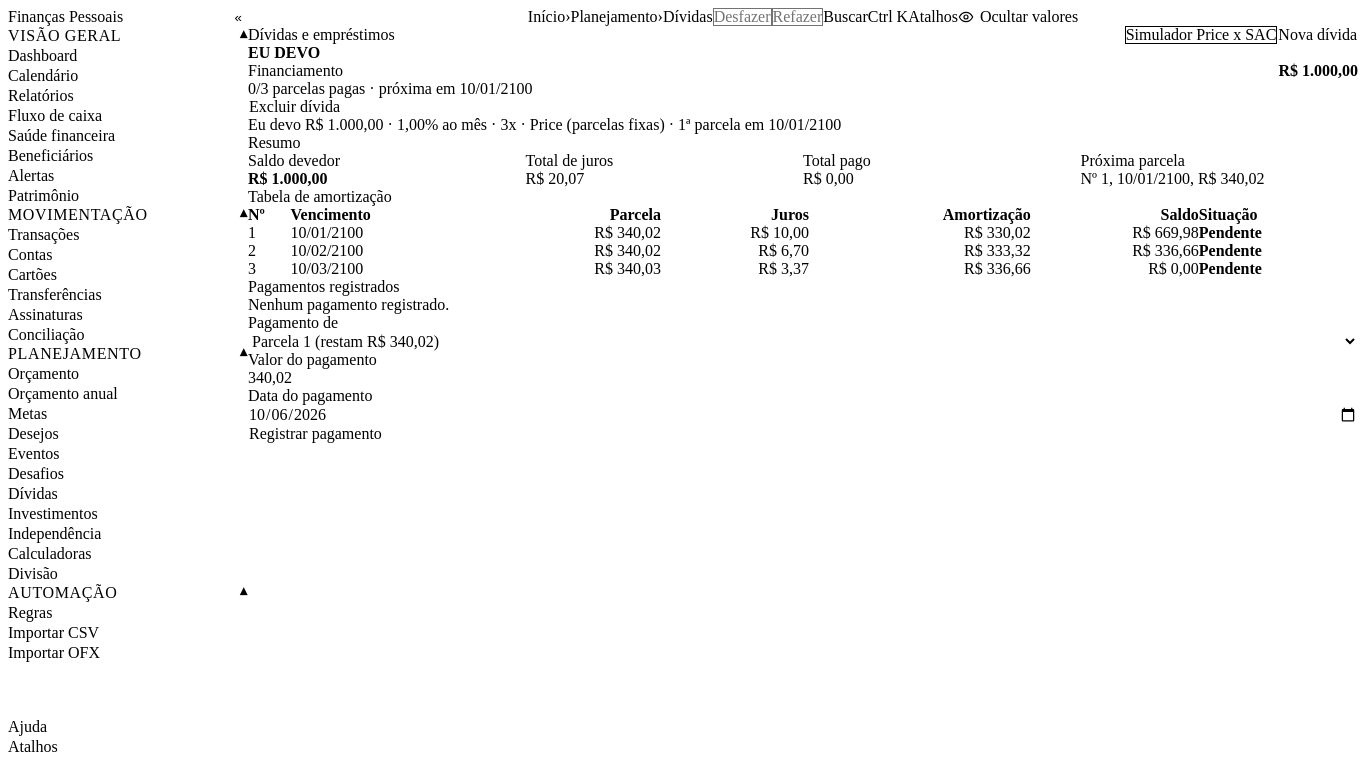
Scenario: dívidas: tela (critérios 1, 6, 8, 10 a 14) › critério 12: exclui a dívida somente após confirmar
The image size is (1366, 759).
Click the button "Excluir dívida": [295, 107] box [248,98,341,116]
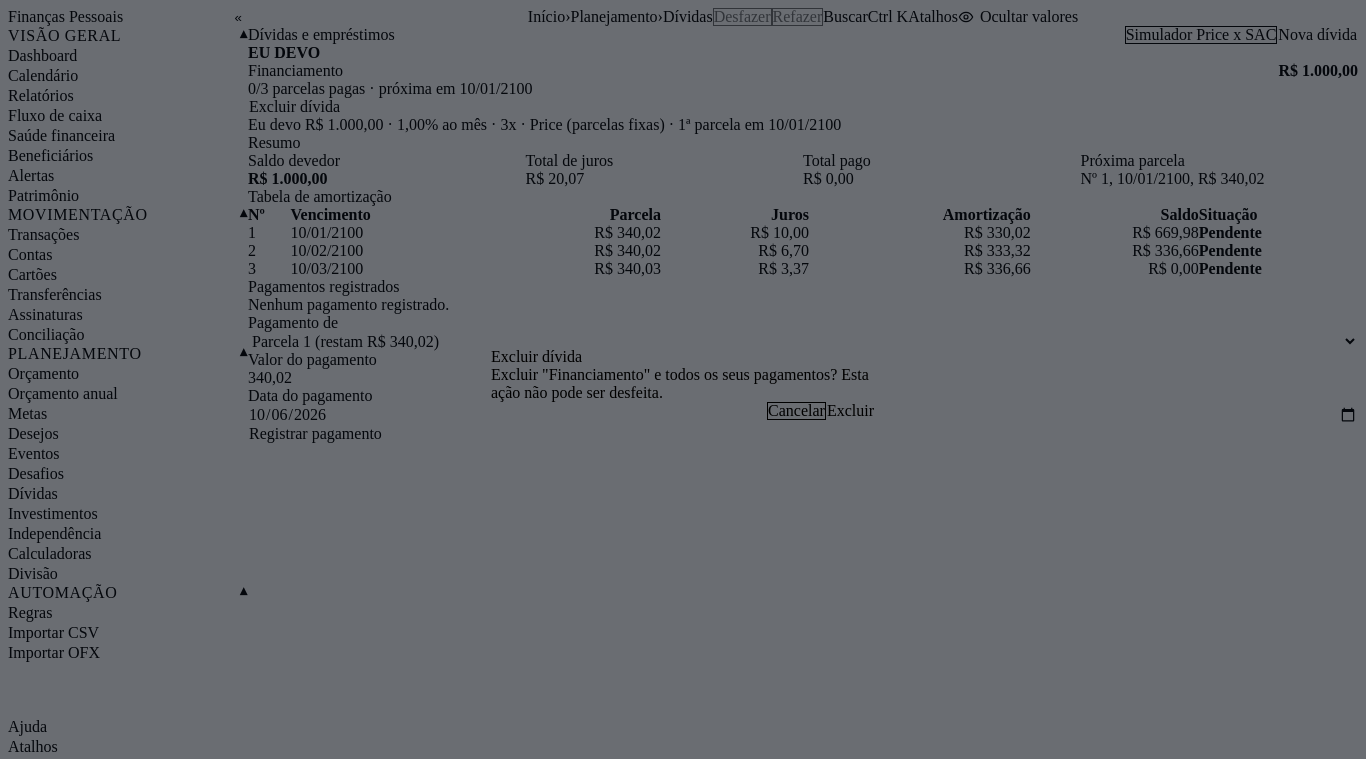
Click the button "Cancelar": [796, 411] box [767,402,826,420]
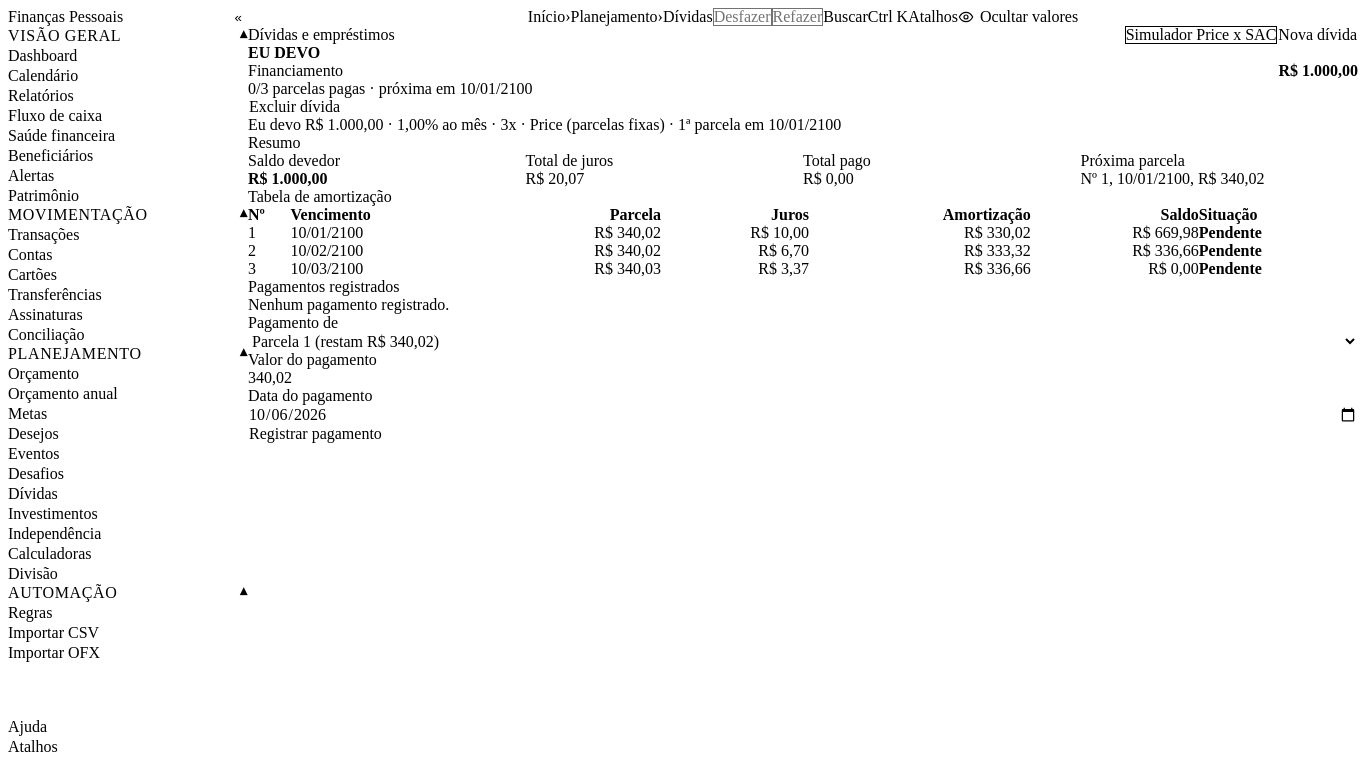
Click the button "Excluir dívida": [295, 107] box [248,98,341,116]
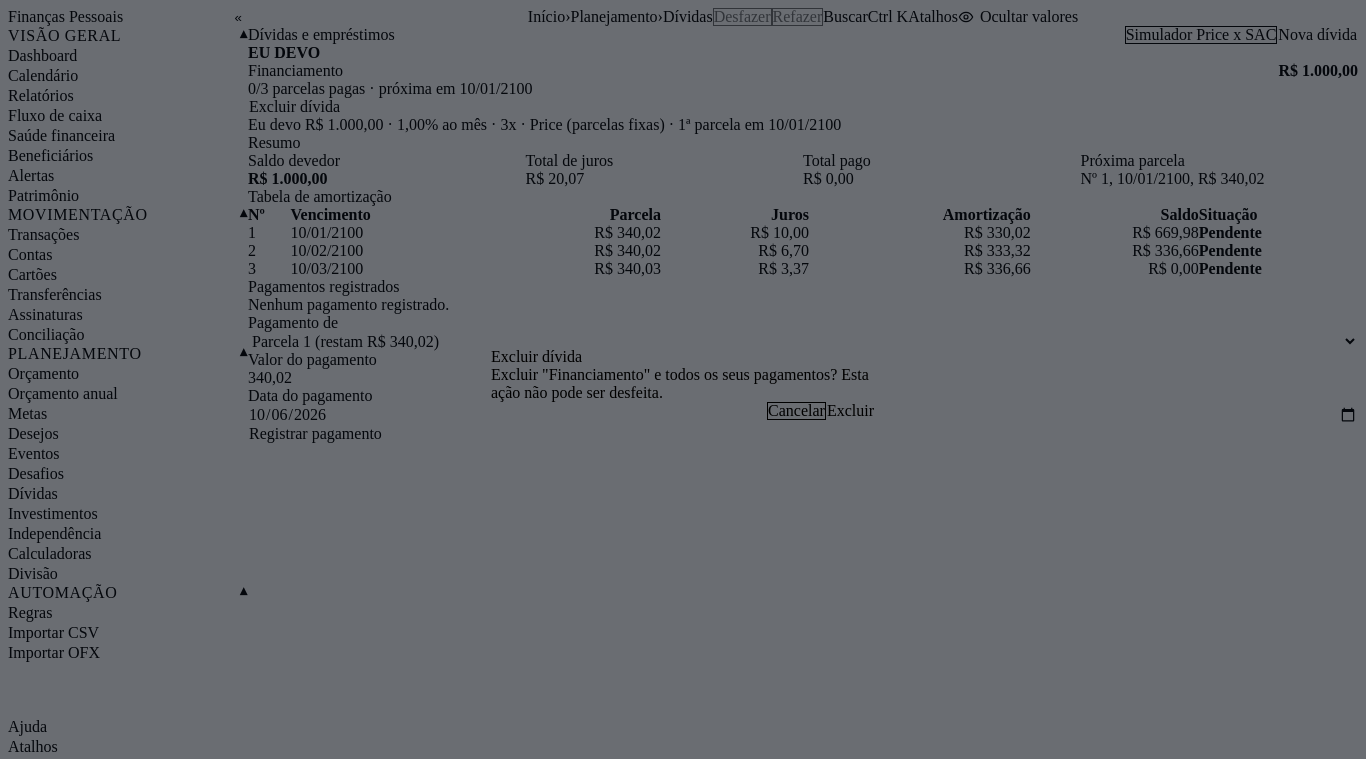
Click the button "Excluir": [850, 411] box [826,402,875,420]
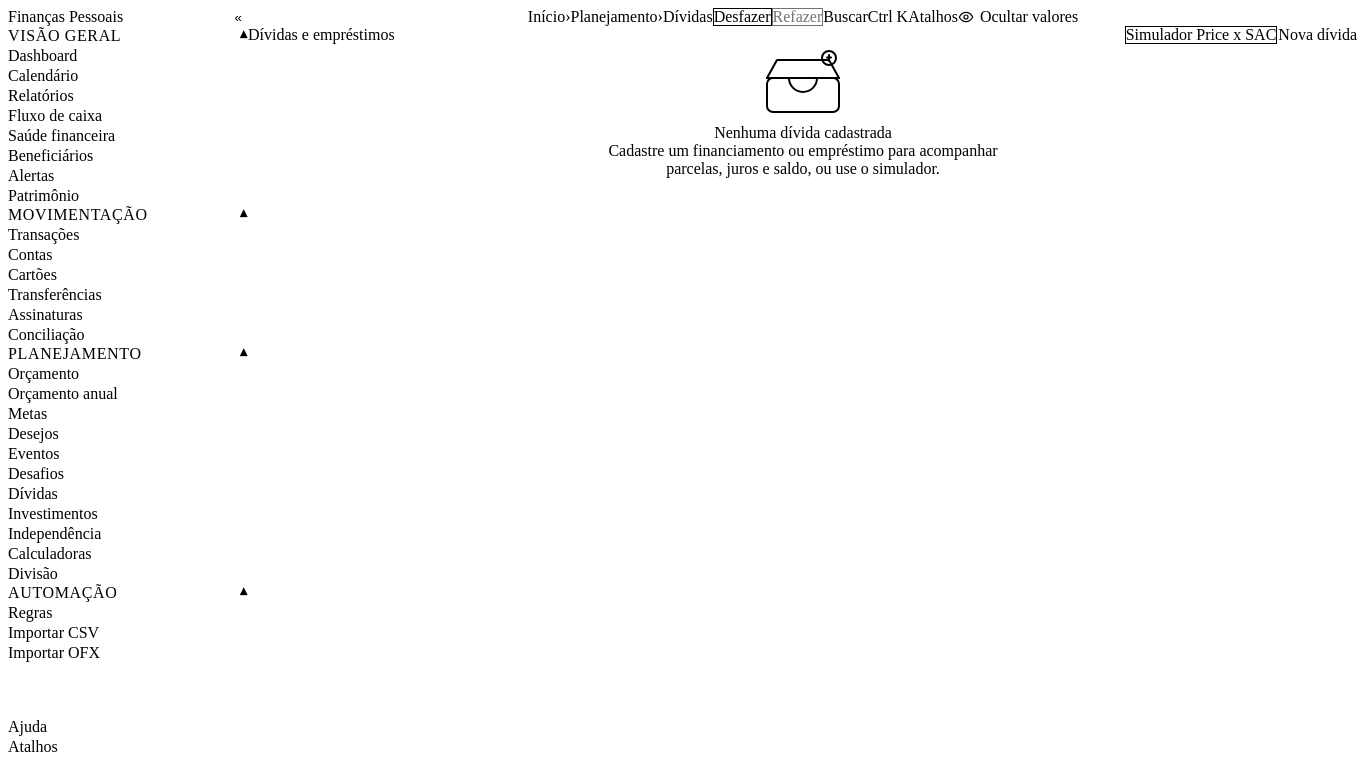
Expected: the text "Nenhuma dívida cadastrada" is shown, [714,124,892,142]
